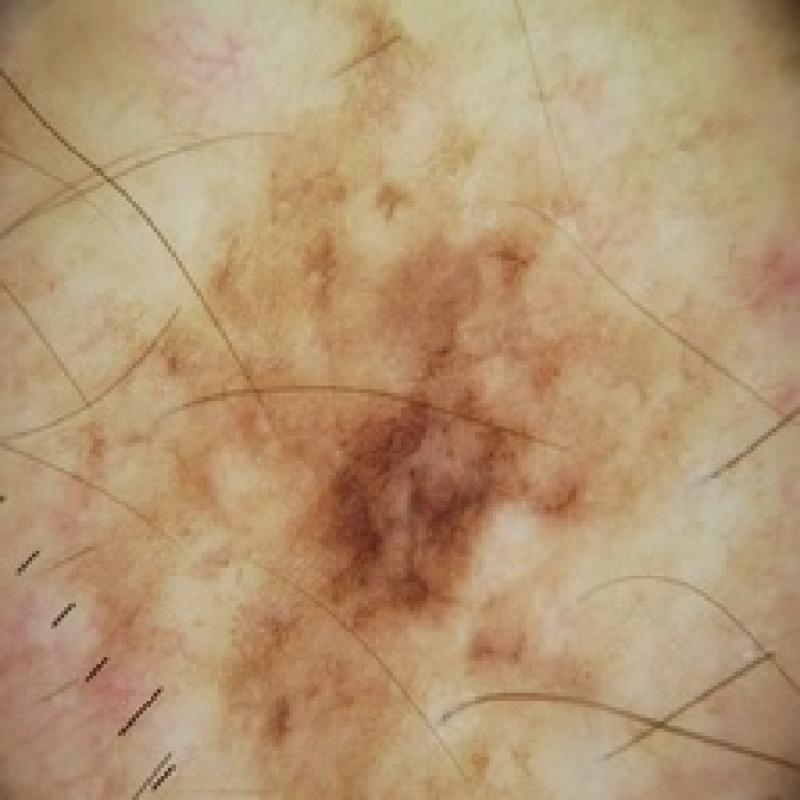malignant: (75, 80, 658, 708)
